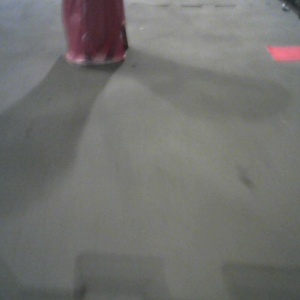right: (62, 1, 128, 65)
